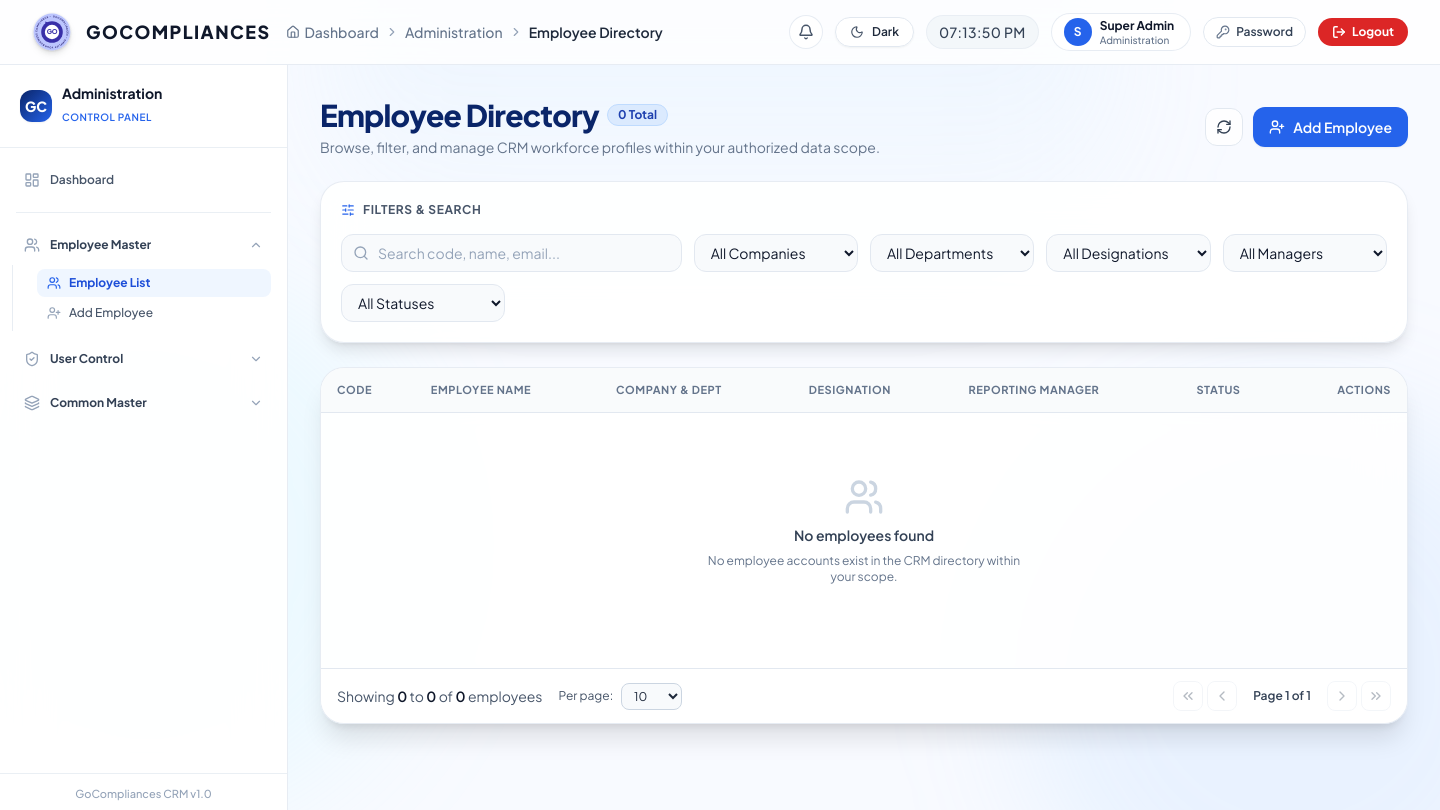
Test: Admin Module Layout & Collapsible Sidebar Routing › navigates back to /dashboard when clicking Dashboard link in sidebar
The width and height of the screenshot is (1440, 810).
Click the link "Dashboard" below "Control Panel". click: {"x": 69, "y": 180}
box: [24,172,114,188]
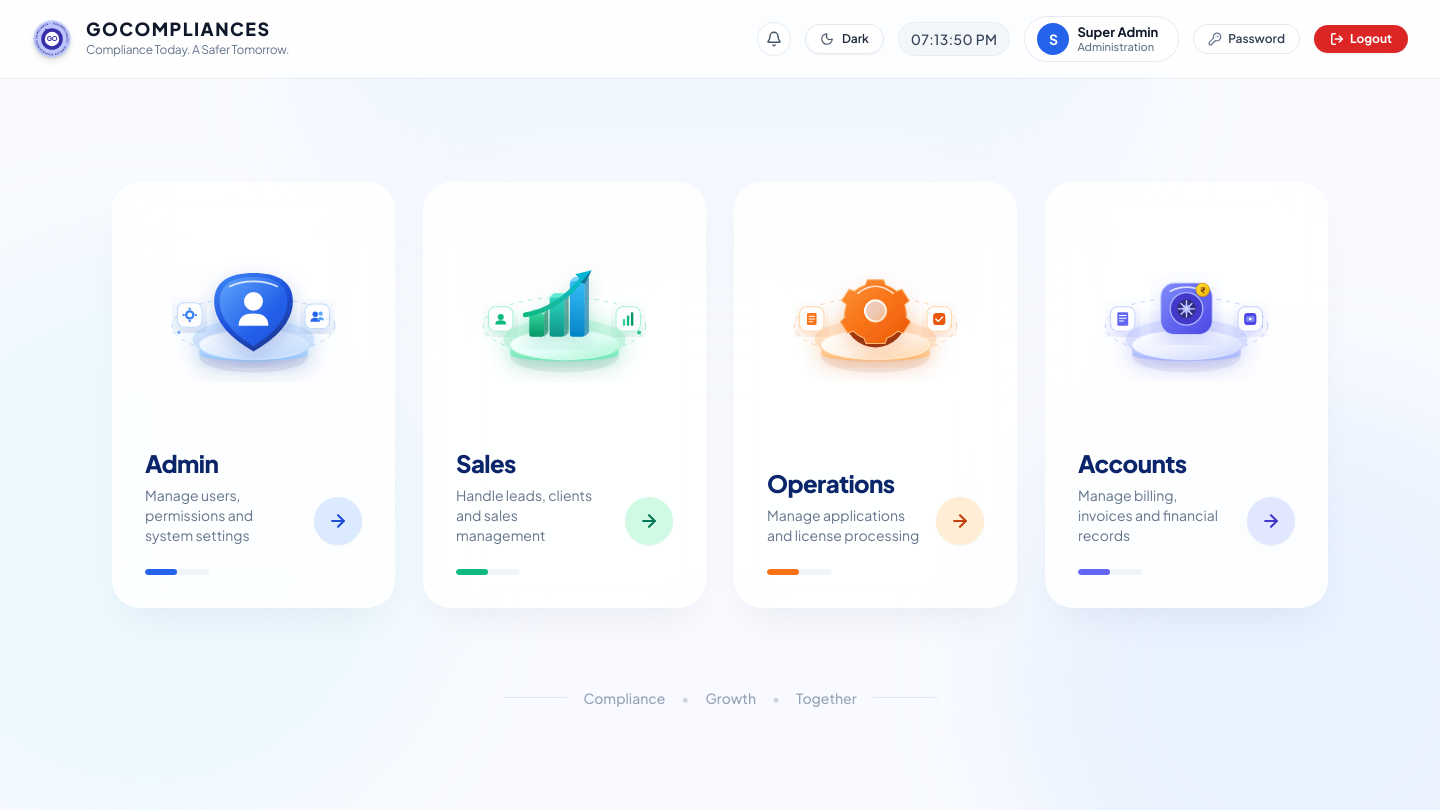
Result: the text "Compliance" is shown at [583,688,665,708]
Result: the text "Growth" is shown at [705,688,756,708]
Result: the text "Together" is shown at [796,688,857,708]
